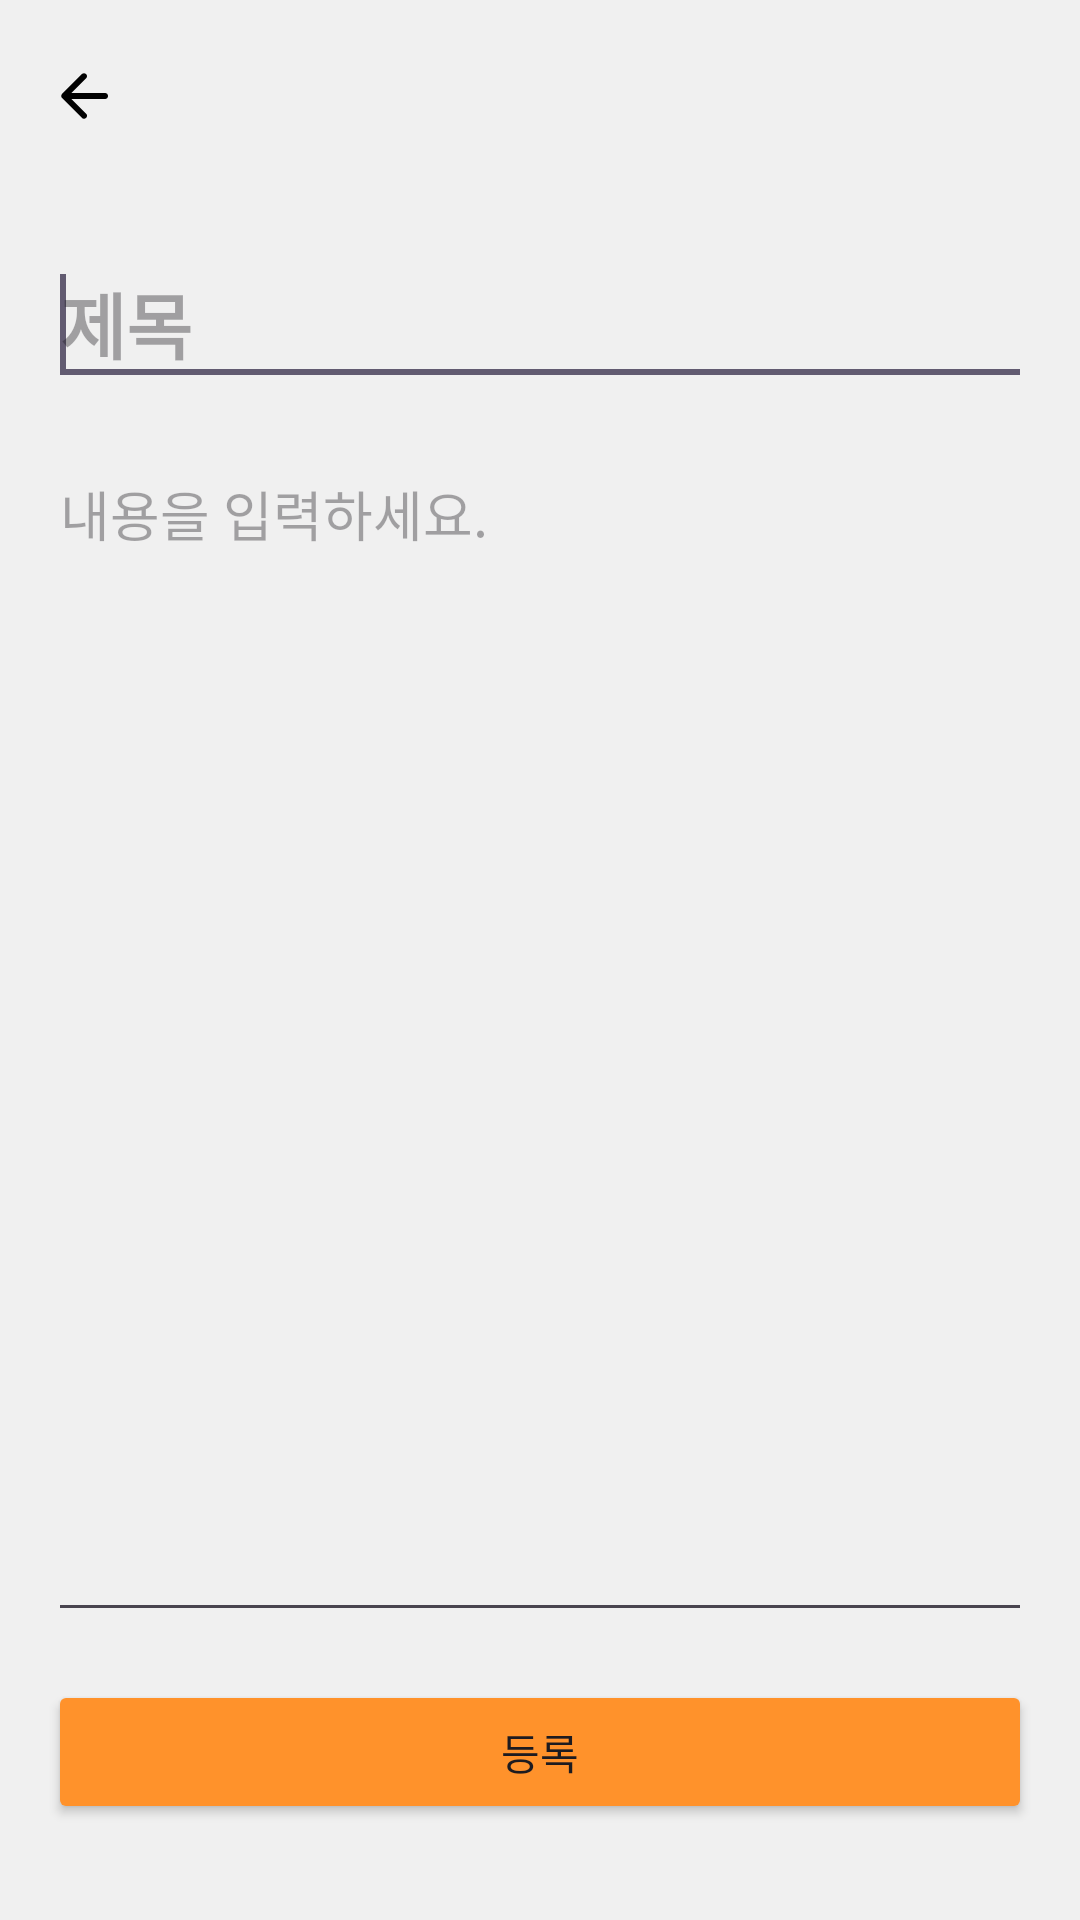

Named icons in this screenshot (1080w x 1920h) and their centers, [x,y]:
arrow back: [84,96]
